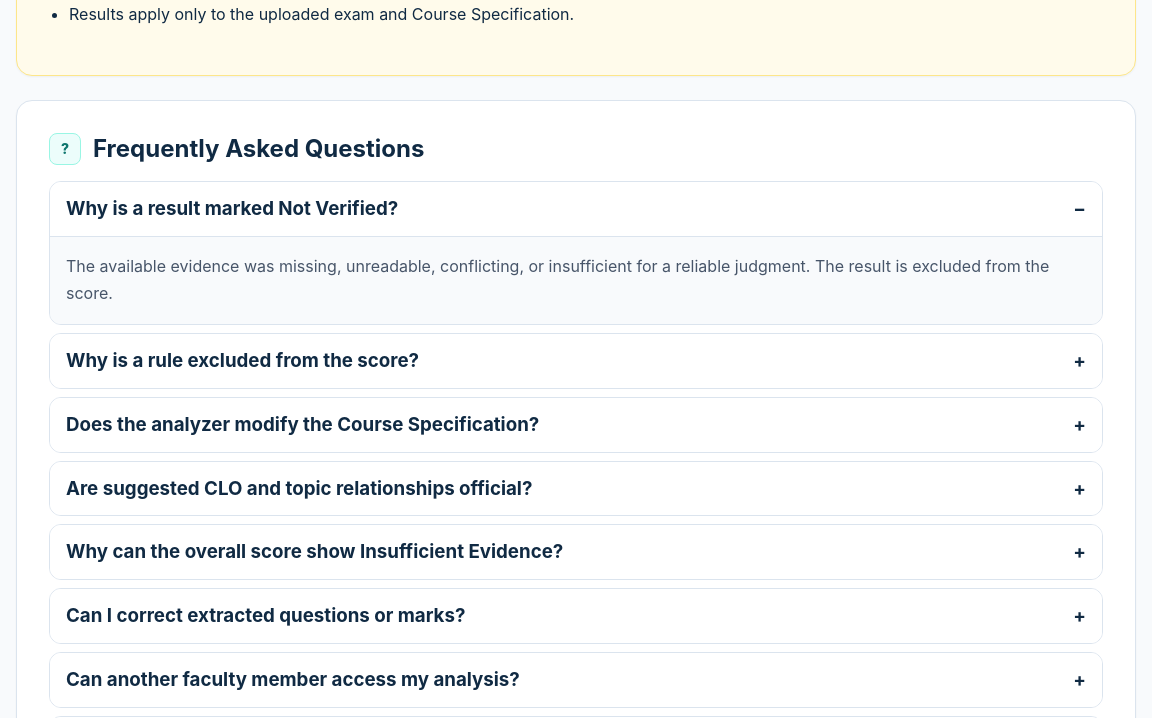
Test: EvaluationScopeRoute › uses a single-open accessible FAQ accordion
(page scrolled)
Click the button "Why is a rule excluded from the score? +" at (243, 360), box [50, 334, 1102, 388]
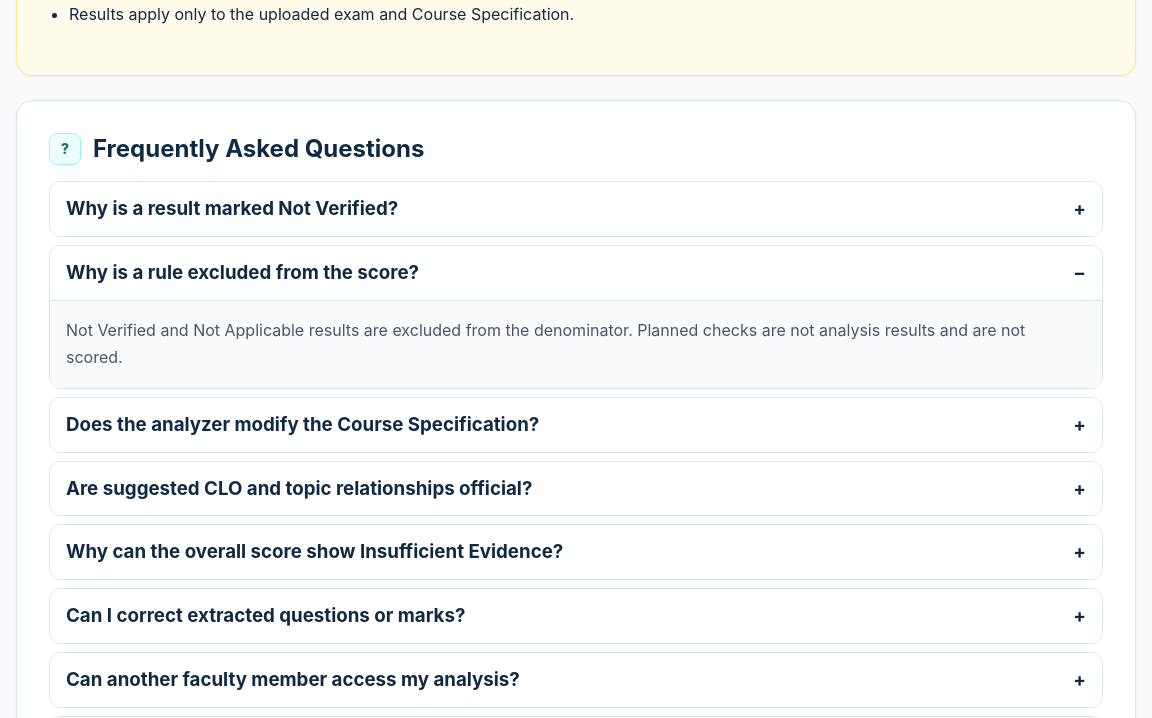
Expected: the element named "Why is a rule excluded from the score?" is shown, [50, 300, 1102, 388]
Expected: the button "Why is a result marked Not Verified? +" is collapsed, [50, 182, 1102, 236]
Expected: the button "Why is a rule excluded from the score? −" is expanded, [50, 246, 1102, 300]
